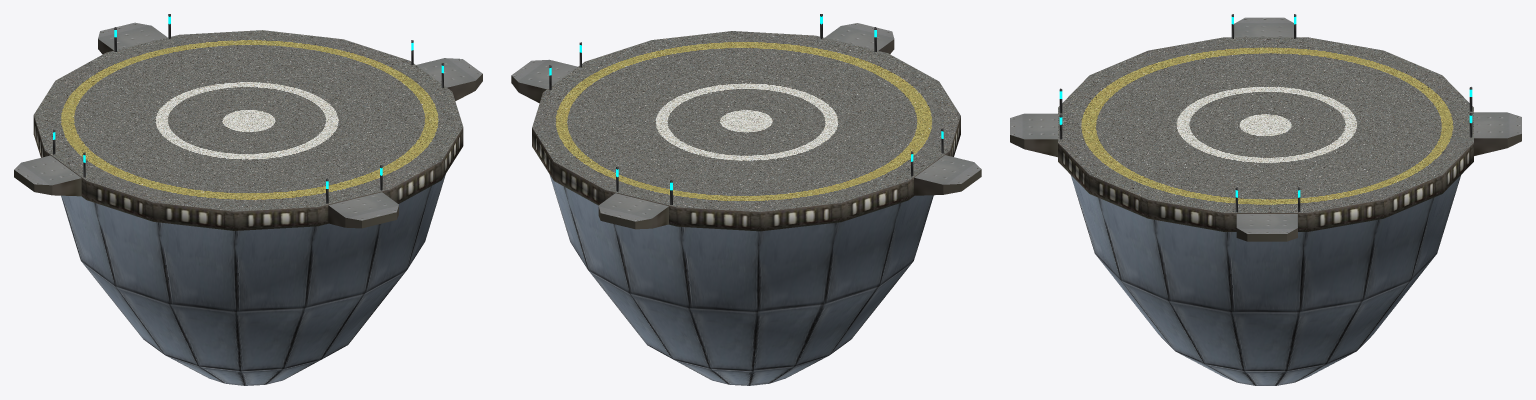
Rendered from Podium.fbx.
3 renders of one model, left to right at view 1: azimuth 30°, elevation 25°; view 2: azimuth 150°, elevation 25°; view 3: azimuth 270°, elevation 25°, orthographic.
Visible parts, largest first — view 1: Podium_LOD0; view 2: Podium_LOD0; view 3: Podium_LOD0.
Part boxes in pixels (bbox=[...]): Podium_LOD0: bbox=[14, 14, 482, 385]; Podium_LOD0: bbox=[511, 14, 981, 385]; Podium_LOD0: bbox=[1010, 14, 1521, 385].
Size of what is drawn, in the model's own units: 1963 by 1114 by 1963.
Materials: 2 (1 with a texture image).
